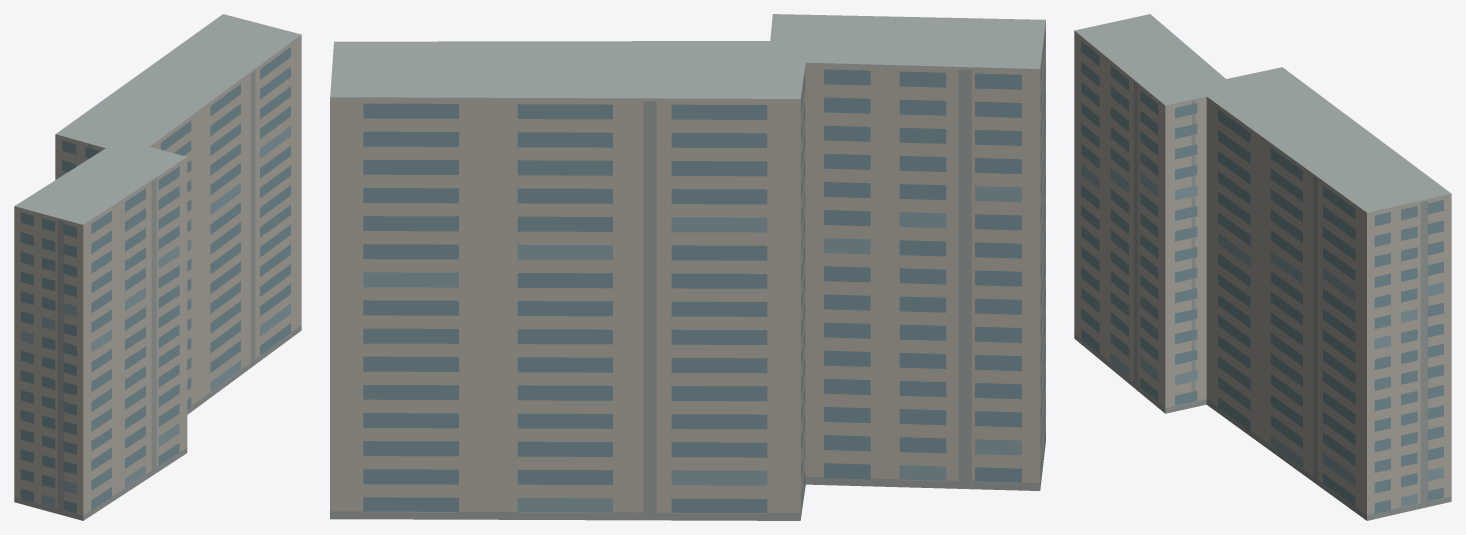
Rendered from residential-2e25a855-1248-43c1-ab5b-cd96953db944.glb.
The picture shows the model from 3 angles, left to right: view 1: azimuth 30°, elevation 25°; view 2: azimuth 150°, elevation 25°; view 3: azimuth 270°, elevation 25°; orthographic projection. The views are drawn at different scales.
Visible parts, largest first — view 1: residential-2e25a855-1248-43c1-ab5b-cd96953db944.tmp; view 2: residential-2e25a855-1248-43c1-ab5b-cd96953db944.tmp; view 3: residential-2e25a855-1248-43c1-ab5b-cd96953db944.tmp.
Boxes of the visible parts, x1,y1,x2,y2 form: residential-2e25a855-1248-43c1-ab5b-cd96953db944.tmp: (14,14,301,520); residential-2e25a855-1248-43c1-ab5b-cd96953db944.tmp: (330,14,1045,520); residential-2e25a855-1248-43c1-ab5b-cd96953db944.tmp: (1074,14,1451,520).
Size of the model in its own units: 58.11 by 42 by 46.6.
